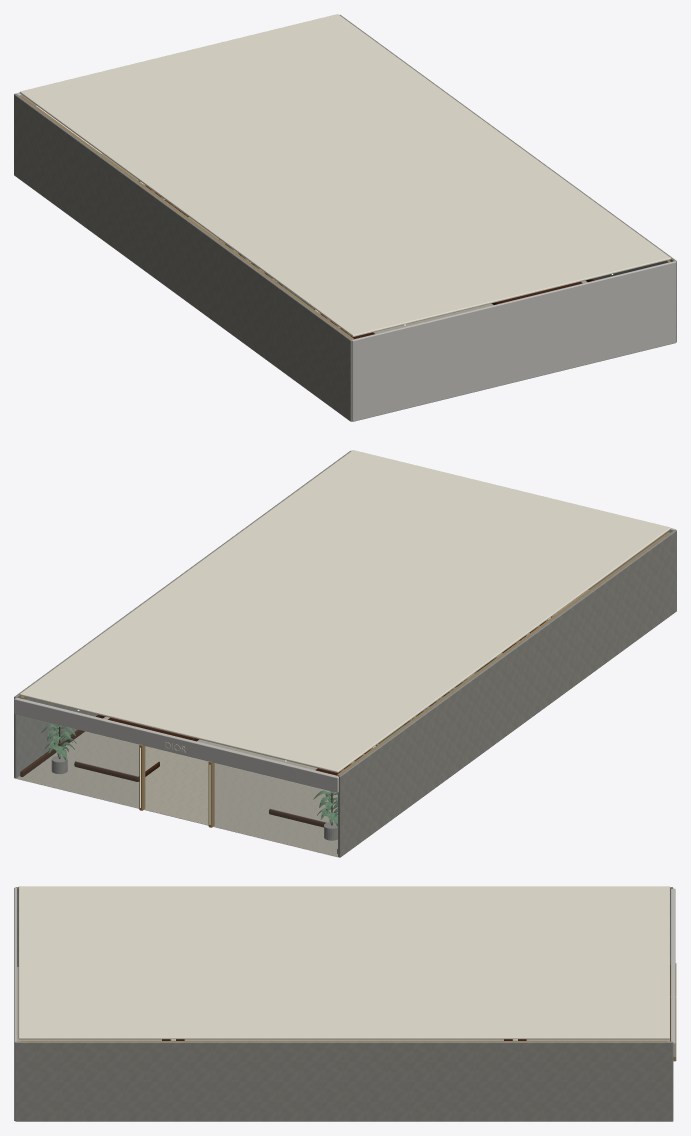
The model's file is dior.glb.
3 renders of one model, top to bottom at view 1: azimuth 30°, elevation 25°; view 2: azimuth 150°, elevation 25°; view 3: azimuth 270°, elevation 25°, orthographic. The views are drawn at different scales.
Parts seen in each view (by area): view 1: Acoustic ceiling field.003, Batched AUR-L2-DIOR::Travertine, Batched AUR-L2-DIOR::Tenant dior, Batched AUR-L2-DIOR::Bronze; view 2: Acoustic ceiling field.003, Batched AUR-L2-DIOR::Travertine, Batched AUR-L2-DIOR::Cream marble, Batched AUR-L2-DIOR::Tenant glass, Batched AUR-L2-DIOR::Tenant dior, Batched AUR-L2-DIOR::Bronze, Batched AUR-L2-DIOR::Walnut, Batched AUR-L2-DIOR::Foliage; view 3: Acoustic ceiling field.003, Batched AUR-L2-DIOR::Travertine, Batched AUR-L2-DIOR::Tenant dior, Batched AUR-L2-DIOR::Cream marble, Batched AUR-L2-DIOR::Bronze.
Part boxes in pixels (x1,y1,x2,y2): Acoustic ceiling field.003: (19, 14, 671, 336); Batched AUR-L2-DIOR::Travertine: (14, 14, 676, 421); Batched AUR-L2-DIOR::Tenant dior: (14, 92, 676, 421); Batched AUR-L2-DIOR::Bronze: (21, 96, 670, 339); Acoustic ceiling field.003: (19, 450, 671, 772); Batched AUR-L2-DIOR::Travertine: (14, 450, 676, 857); Batched AUR-L2-DIOR::Cream marble: (15, 590, 588, 857); Batched AUR-L2-DIOR::Tenant glass: (15, 715, 338, 857); Batched AUR-L2-DIOR::Tenant dior: (14, 528, 676, 792); Batched AUR-L2-DIOR::Bronze: (20, 532, 669, 827); Batched AUR-L2-DIOR::Walnut: (20, 616, 552, 853); Batched AUR-L2-DIOR::Foliage: (41, 724, 337, 826); Acoustic ceiling field.003: (18, 886, 669, 1039); Batched AUR-L2-DIOR::Travertine: (15, 887, 673, 1121); Batched AUR-L2-DIOR::Tenant dior: (14, 887, 675, 1120); Batched AUR-L2-DIOR::Cream marble: (17, 967, 669, 1041); Batched AUR-L2-DIOR::Bronze: (21, 963, 676, 1061).
Bounding box in the file's own units: 20.16 × 4.97 × 36.29.
17 materials, 4 textured.
